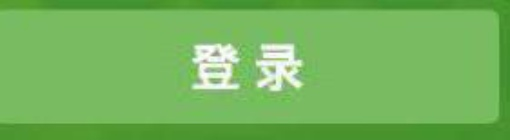Button: (1, 1, 509, 139)
